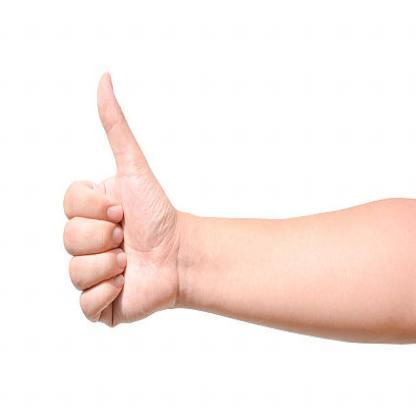thumb_up: (58, 69, 176, 328)
